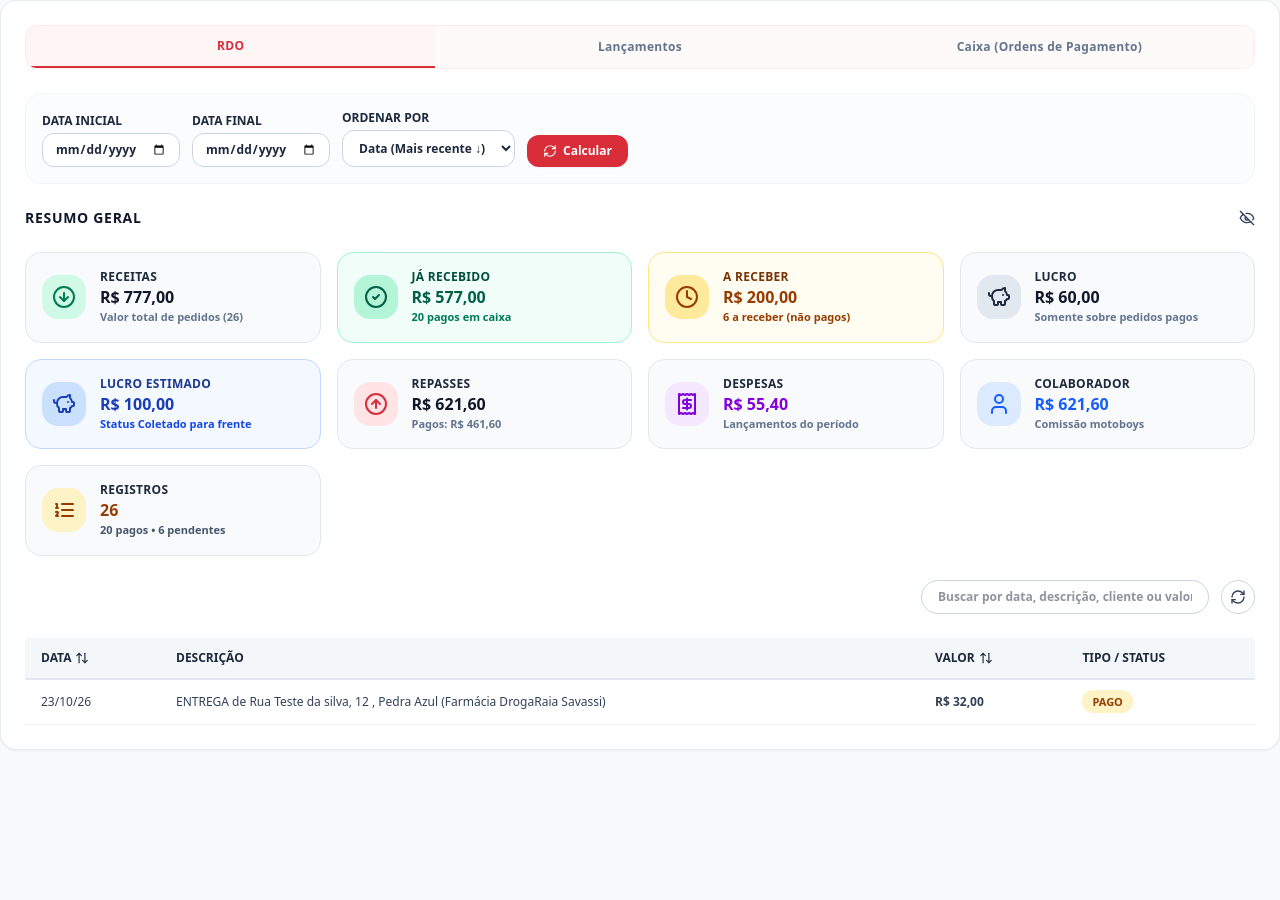
Test: FinancialScreen › should display Despesas (instead of Empresa) and Lucro (instead of Saldo Total) in RESUMO GERAL, filter RDO by startDate and endDate, and manage Lançamentos (cr
Later steps or results of the test are not shown.
Check: the text "Despesas" is shown, box [723, 374, 783, 392]
Check: the text "Lucro" is shown, box [1034, 268, 1077, 285]
Verify date filters in RDO tab and the red "Calcular" button next to the filters trigger summary recalculation
Type "2026-10-01" into the date field labelled "Data Inicial".
click(111, 150); type("2026-10-01")  # box [42, 133, 180, 167]
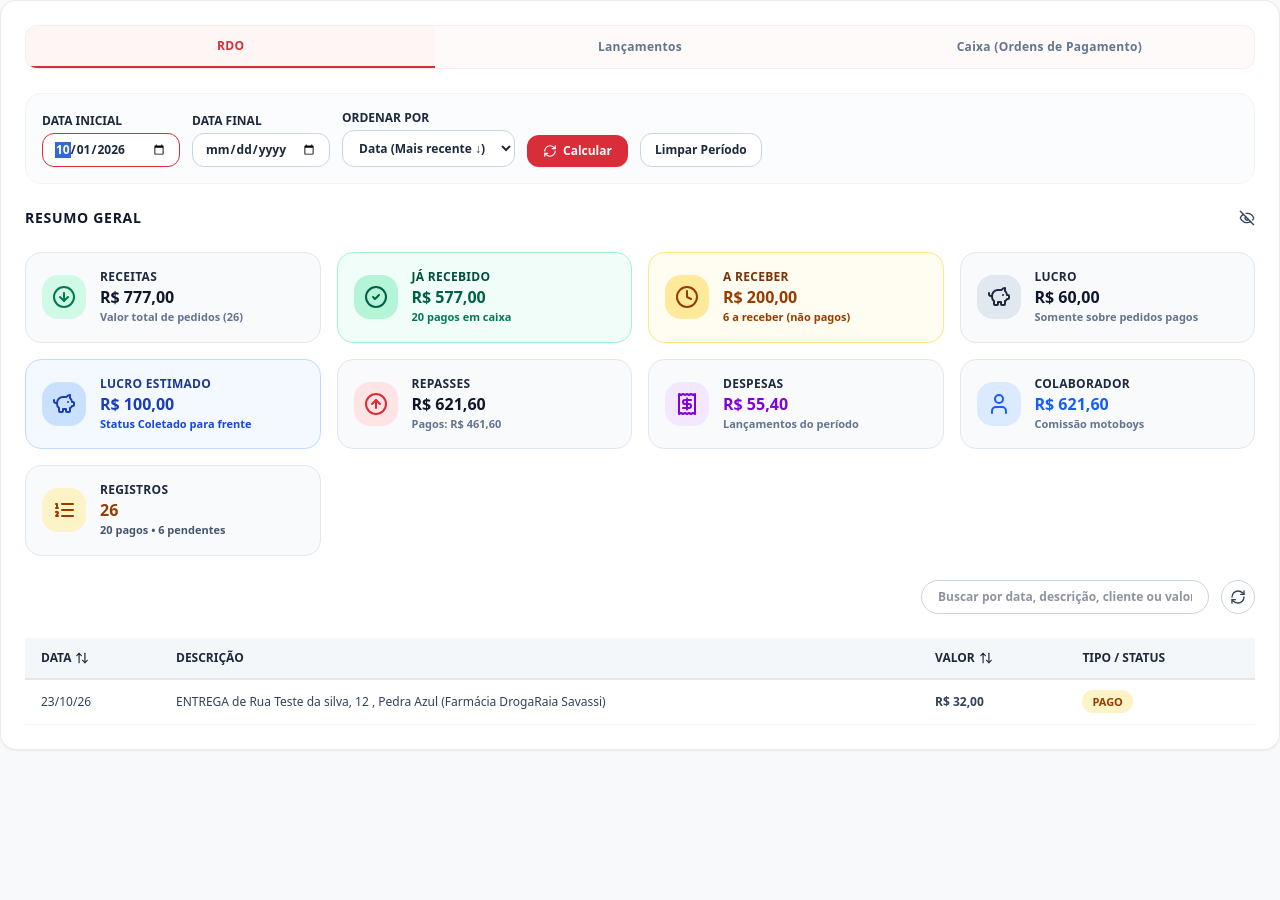
Type "2026-10-29" into the date field labelled "Data Final".
click(261, 150); type("2026-10-29")  # box [192, 133, 330, 167]
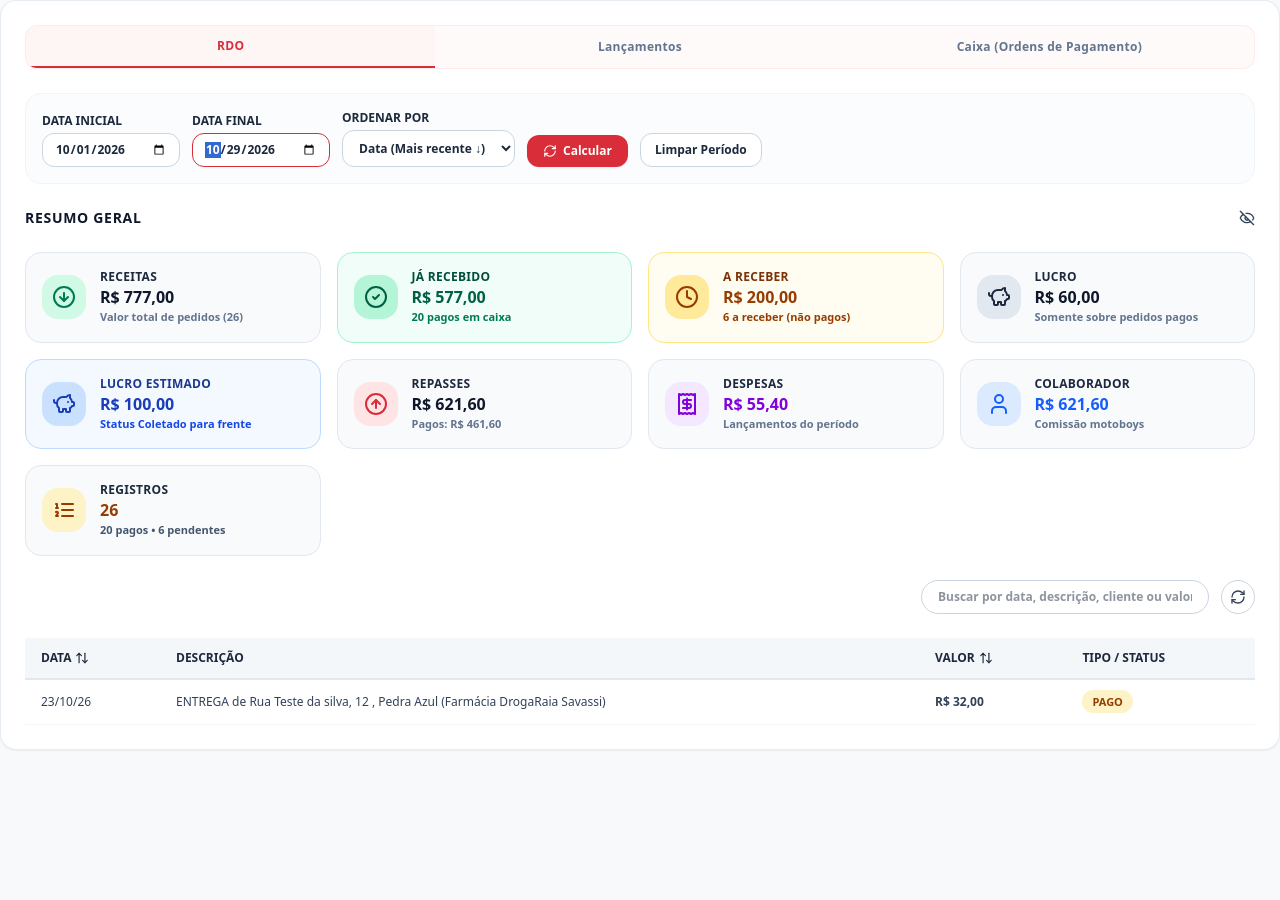
Click the button "Calcular".
click(578, 151)  # box [527, 135, 628, 167]
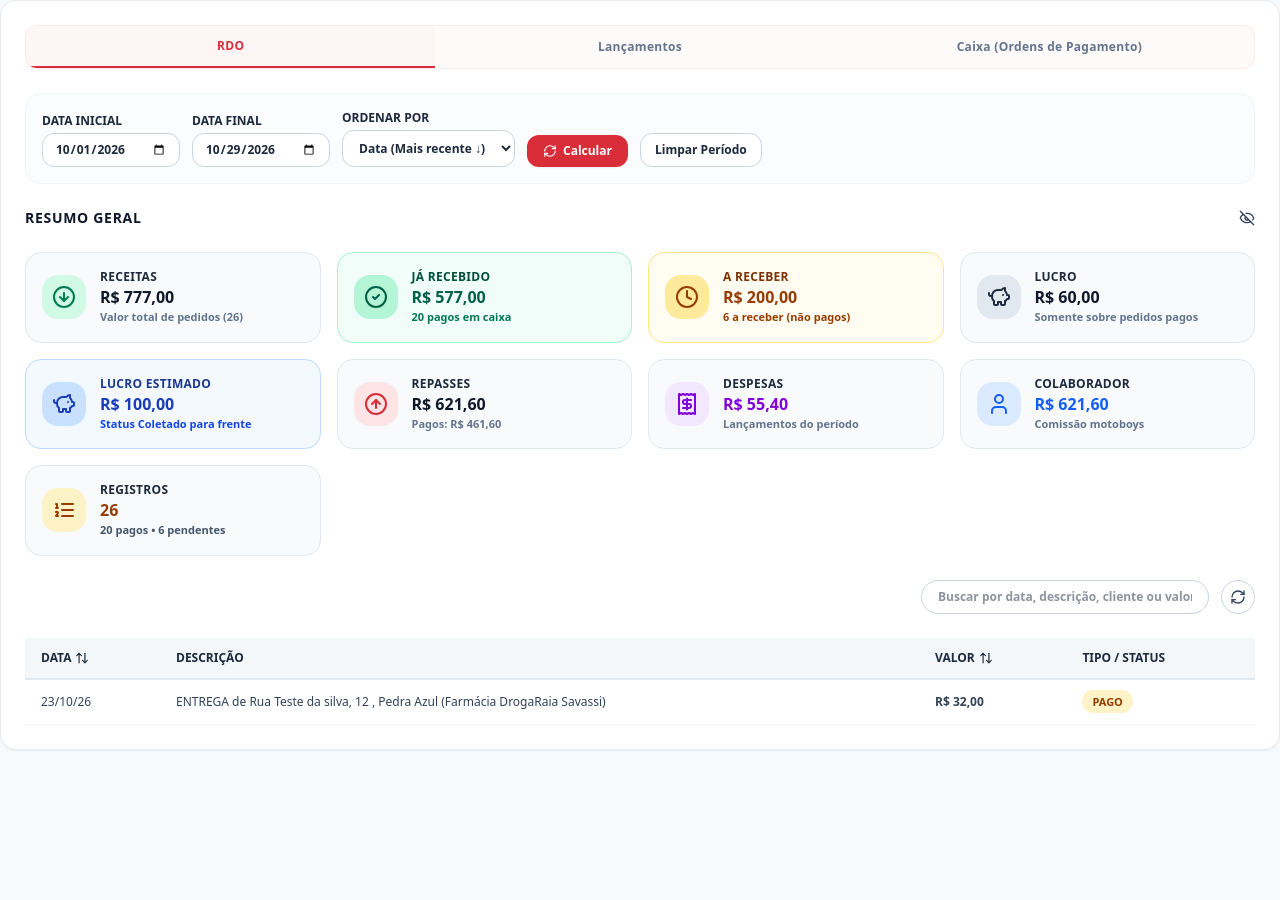
Switch to "Lançamentos" tab
Click the button "Lançamentos".
click(640, 47)  # box [435, 26, 845, 68]
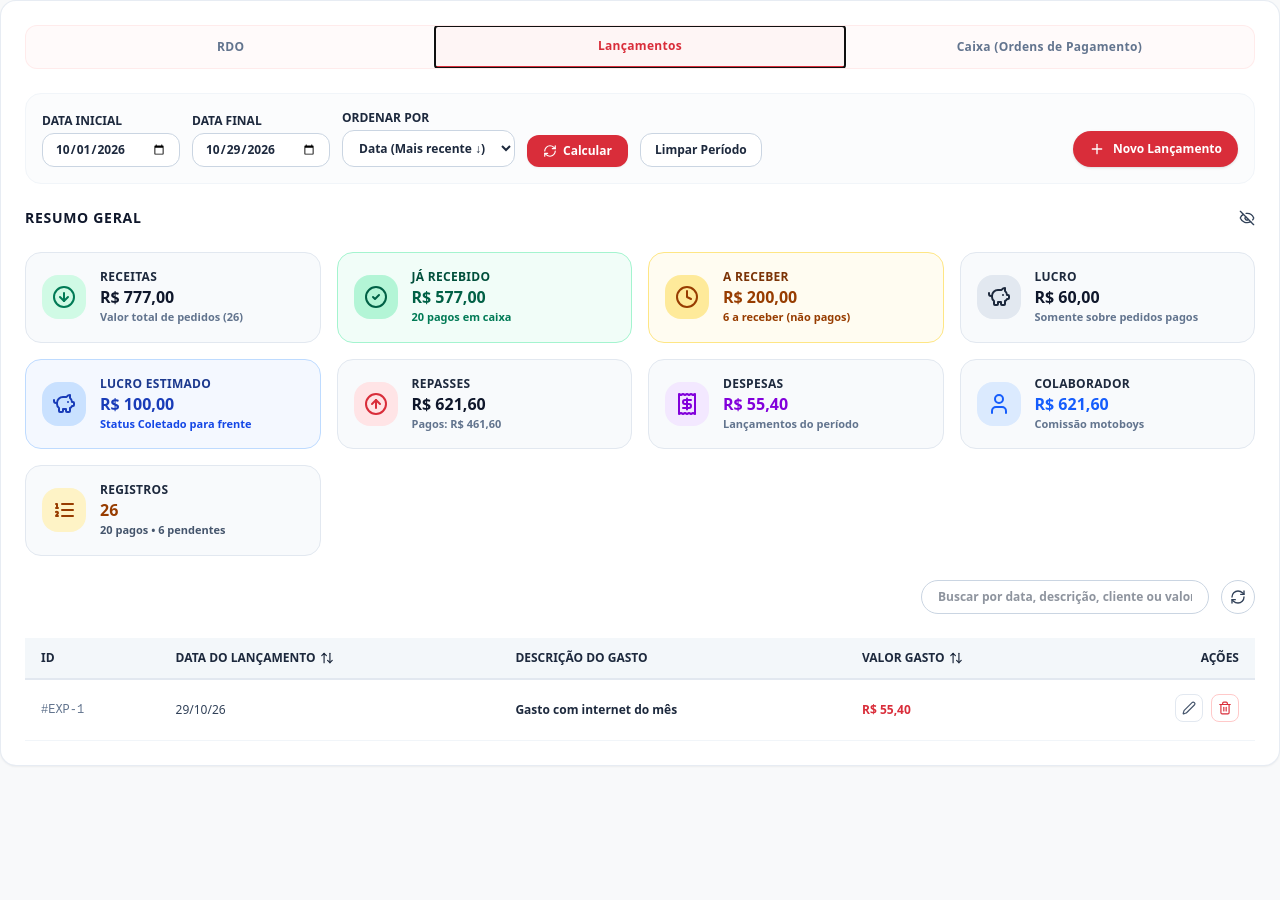
Check: the text "Gasto com internet do mês" is shown, box [499, 678, 846, 740]
